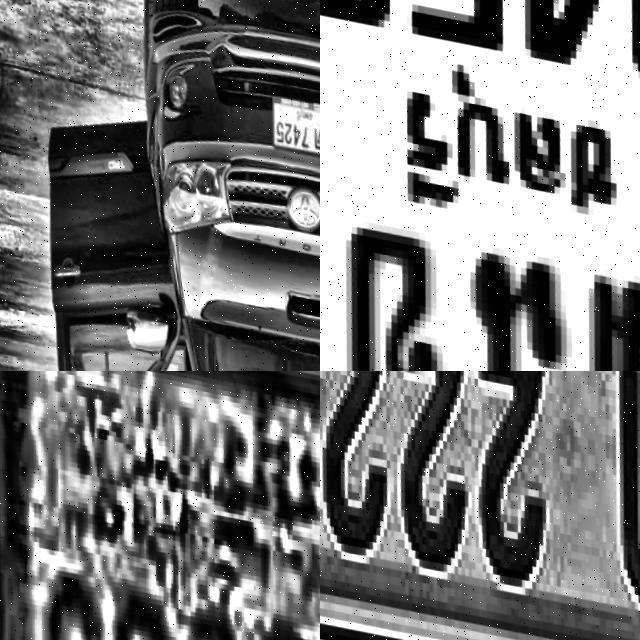license-plate: (320, 0, 640, 371), (0, 371, 320, 640), (320, 371, 640, 640), (260, 87, 320, 153)
